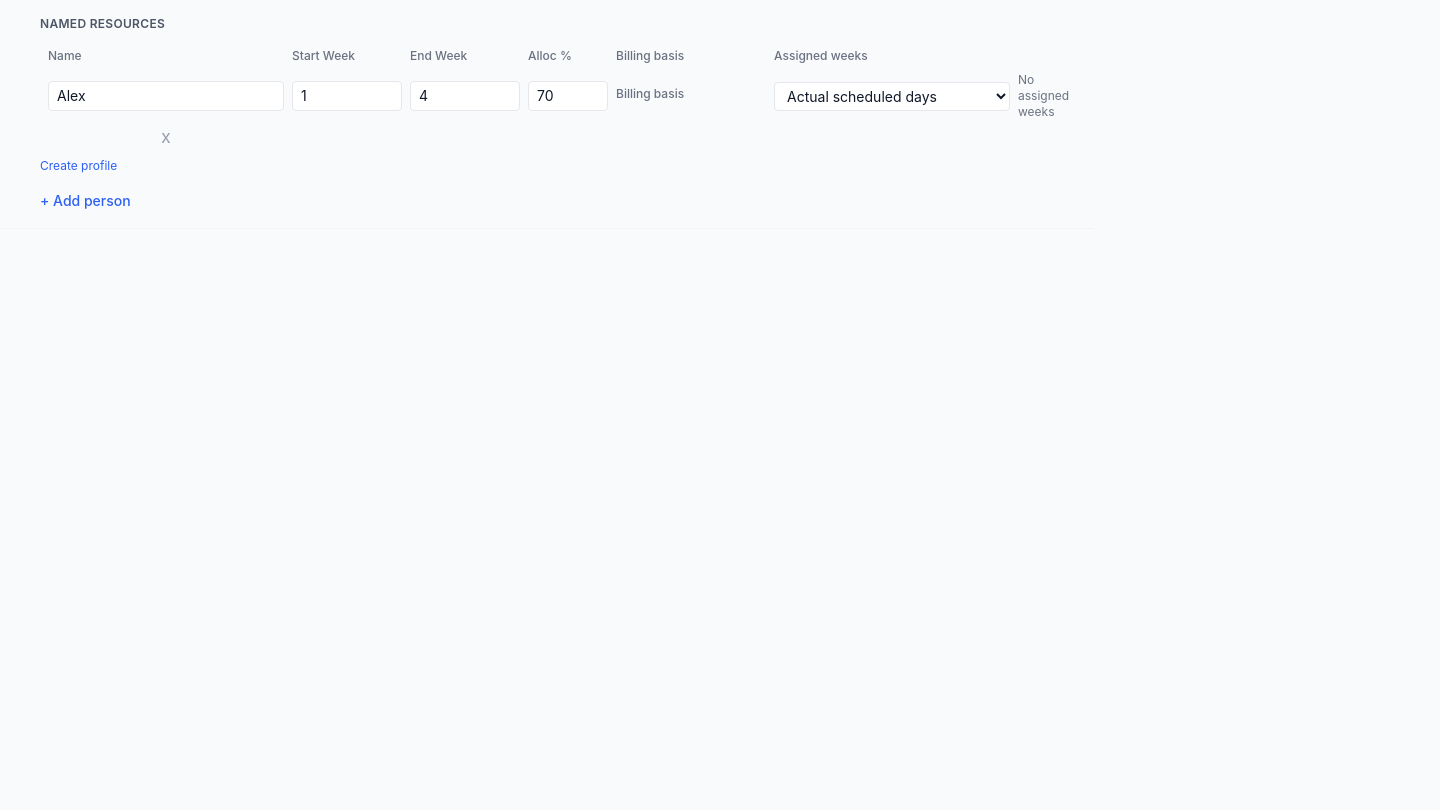
Test case: NamedResourcesPanel first-class profile access › opens a legacy-only named person in create mode with effective values
Click the button with test id "named-resource-profile-action-nr-1" at point(79, 166), box [40,158,117,174]
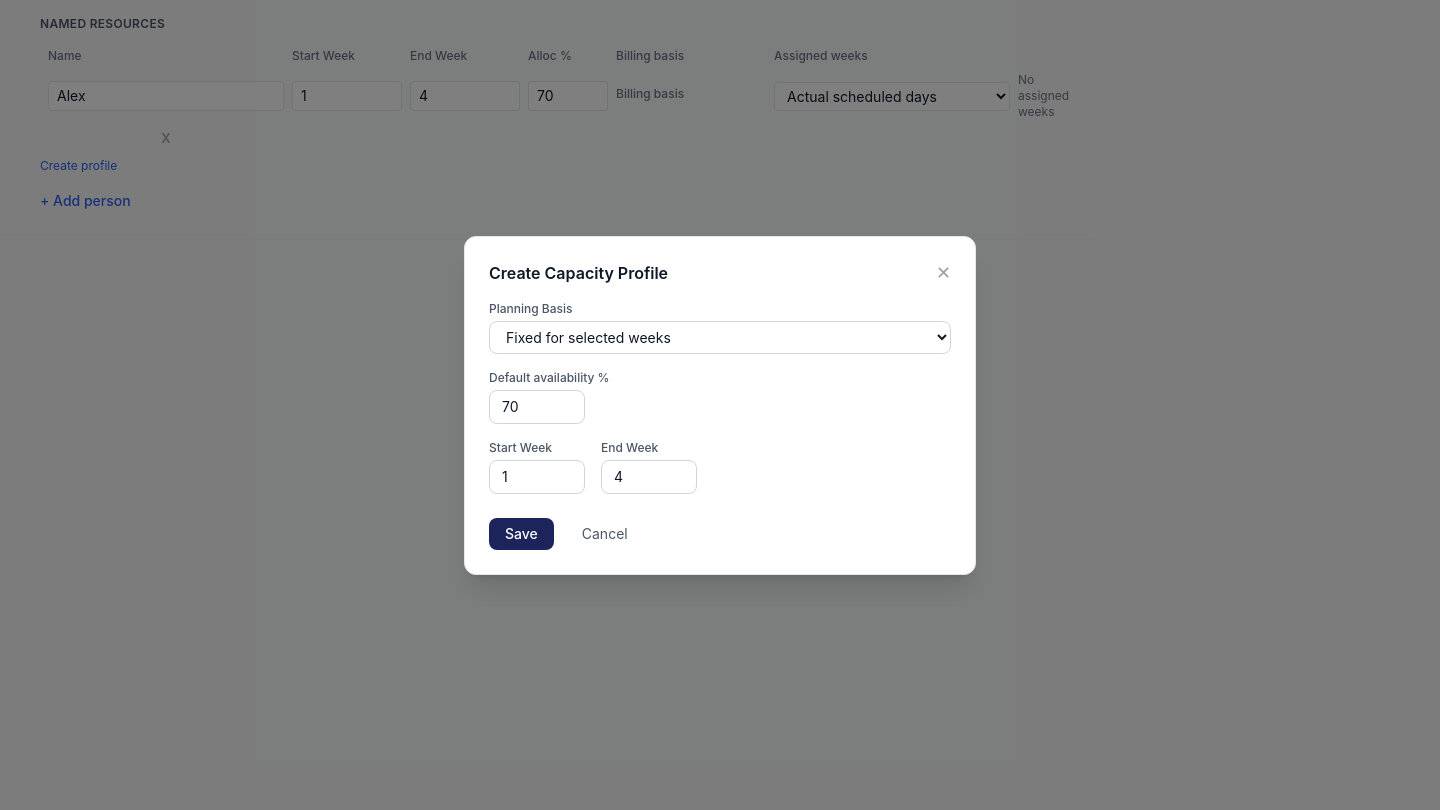
Result: the heading "Create Capacity Profile" is shown at [489,260,668,284]
Result: the dropdown with test id "cp-planning-basis-select" shows "Fixed for selected weeks" at [489,320,951,354]
Result: the number field with test id "cp-default-pct-input" holds "70" at [489,390,585,424]
